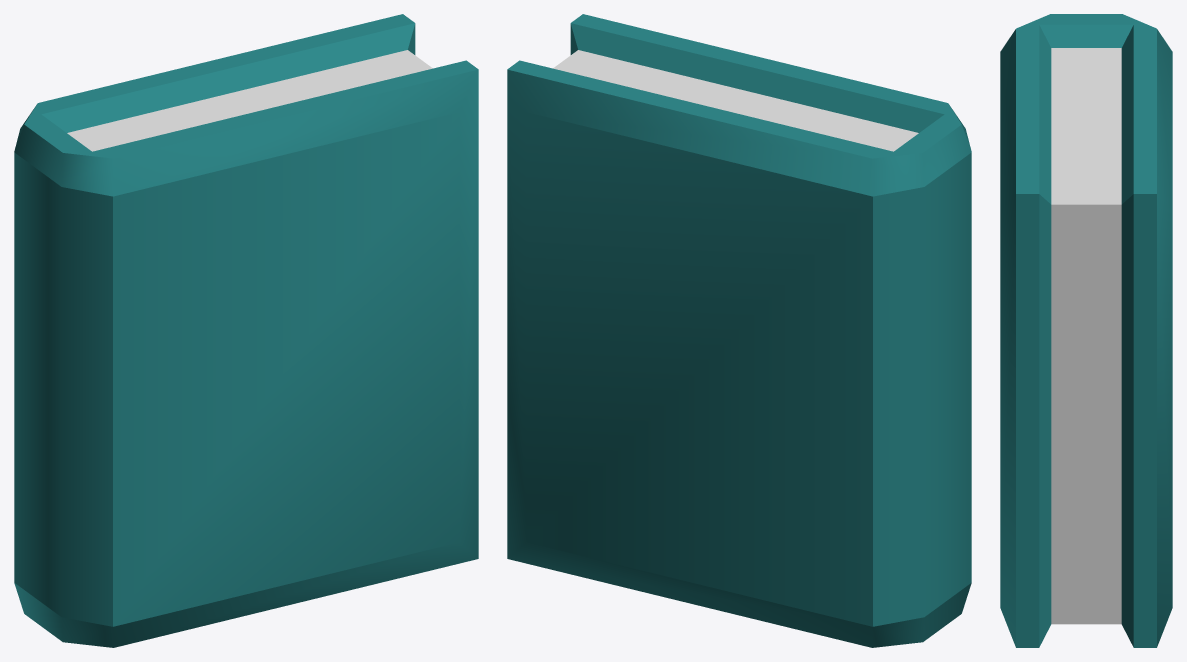
Rendered from kaykit-booke.glb.
The picture shows the model from 3 angles, left to right: view 1: azimuth 30°, elevation 25°; view 2: azimuth 150°, elevation 25°; view 3: azimuth 270°, elevation 25°; orthographic projection. The views are drawn at different scales.
Visible parts, largest first — view 1: bookE; view 2: bookE; view 3: bookE.
Part boxes in pixels (x1,y1,x2,y2): bookE: [14, 14, 478, 647]; bookE: [507, 14, 971, 647]; bookE: [1000, 14, 1172, 647].
Bounding box in the file's own units: 0.3586 × 0.4161 × 0.1431.
